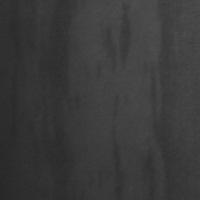inclusion: (36, 3, 80, 198), (151, 3, 192, 198), (104, 90, 132, 199), (6, 2, 26, 148), (105, 2, 137, 78)
